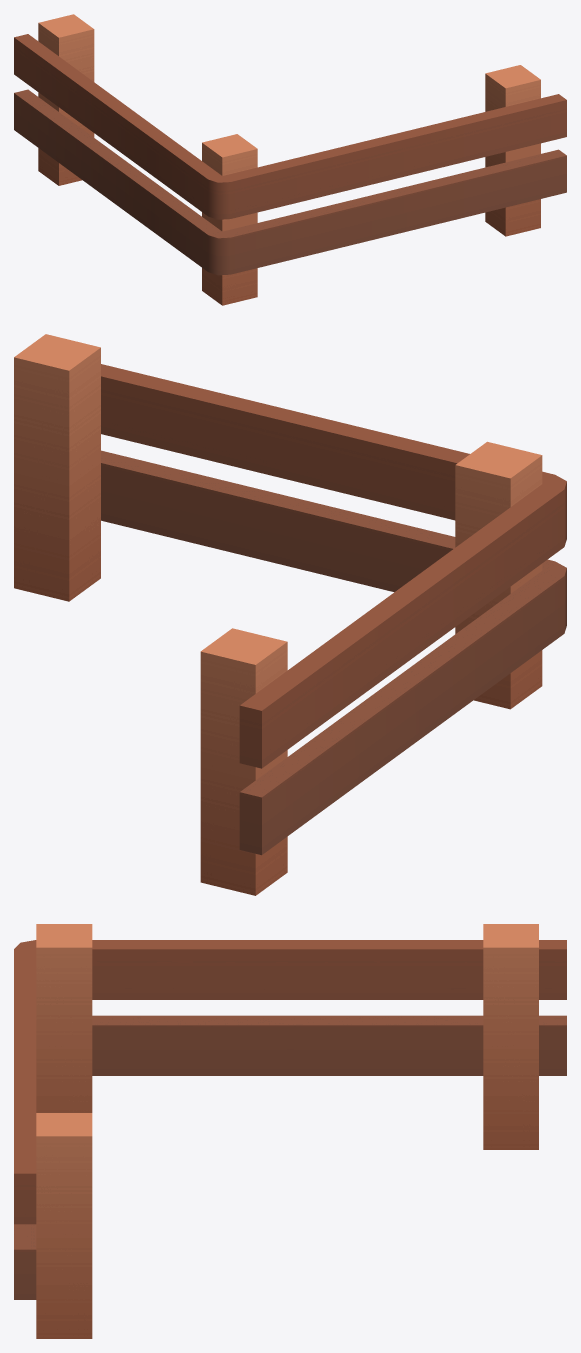
Rendered from fence-corner.glb.
3 views of the same model, one above another, from view 1: azimuth 30°, elevation 25°; view 2: azimuth 150°, elevation 25°; view 3: azimuth 270°, elevation 25° (orthographic). The views are drawn at different scales.
Parts seen in each view (by area): view 1: fence-corner; view 2: fence-corner; view 3: fence-corner.
Part boxes in pixels (x1,y1,x2,y2): fence-corner: [14, 14, 566, 305]; fence-corner: [14, 334, 566, 895]; fence-corner: [14, 924, 566, 1338].
Size of the model in its own units: 0.99 by 0.4 by 0.99.
1 material, 1 textured.
